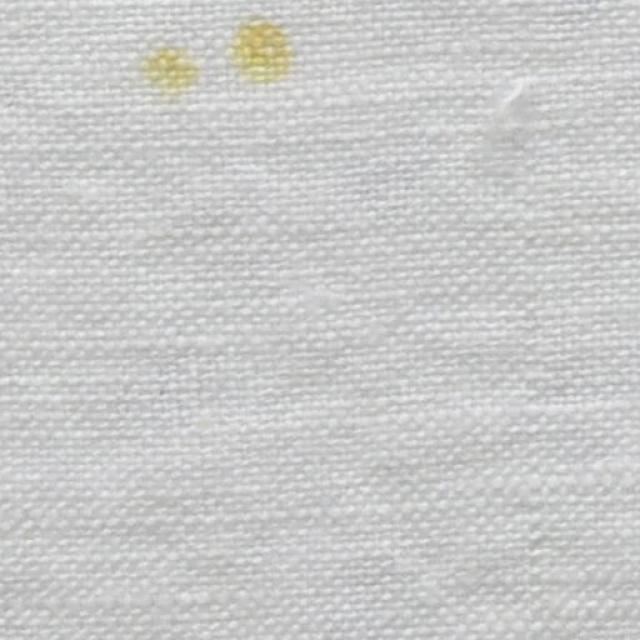Knot: (486, 71, 536, 129)
Stain: (244, 21, 288, 80), (145, 46, 194, 95)
